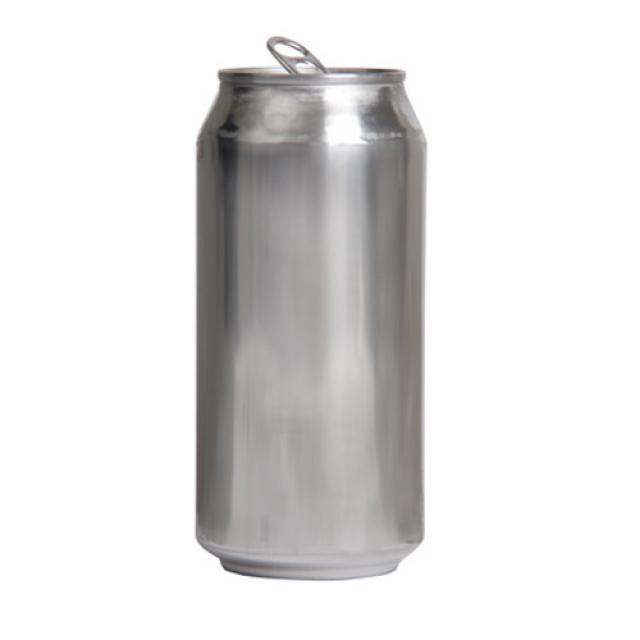non-organic waste: (183, 25, 440, 601)
